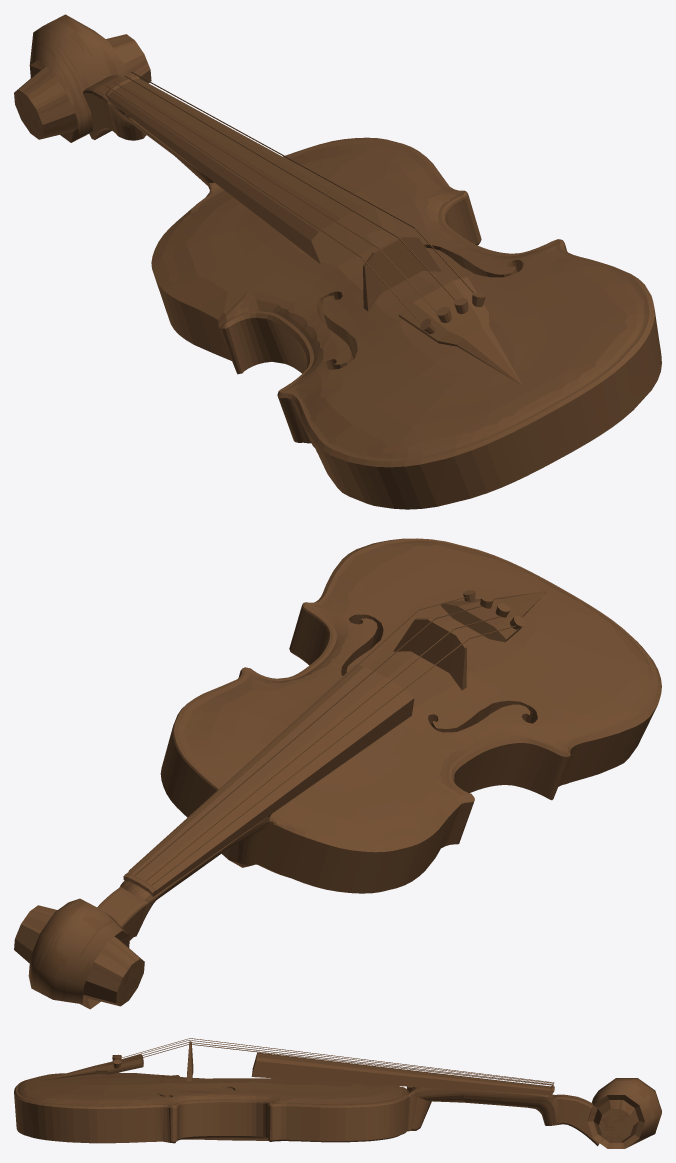
File: ColladaViolin.dae
3 views of the same model, one above another, from view 1: azimuth 30°, elevation 25°; view 2: azimuth 150°, elevation 25°; view 3: azimuth 270°, elevation 25° (orthographic). The views are drawn at different scales.
Visible parts, largest first — view 1: Violin; view 2: Violin; view 3: Violin.
Boxes of the visible parts, x1,y1,x2,y2 form: Violin: (14, 14, 661, 509); Violin: (14, 538, 661, 1009); Violin: (14, 1038, 661, 1148).
Size of the model in its own units: 49.77 by 26.32 by 140.
